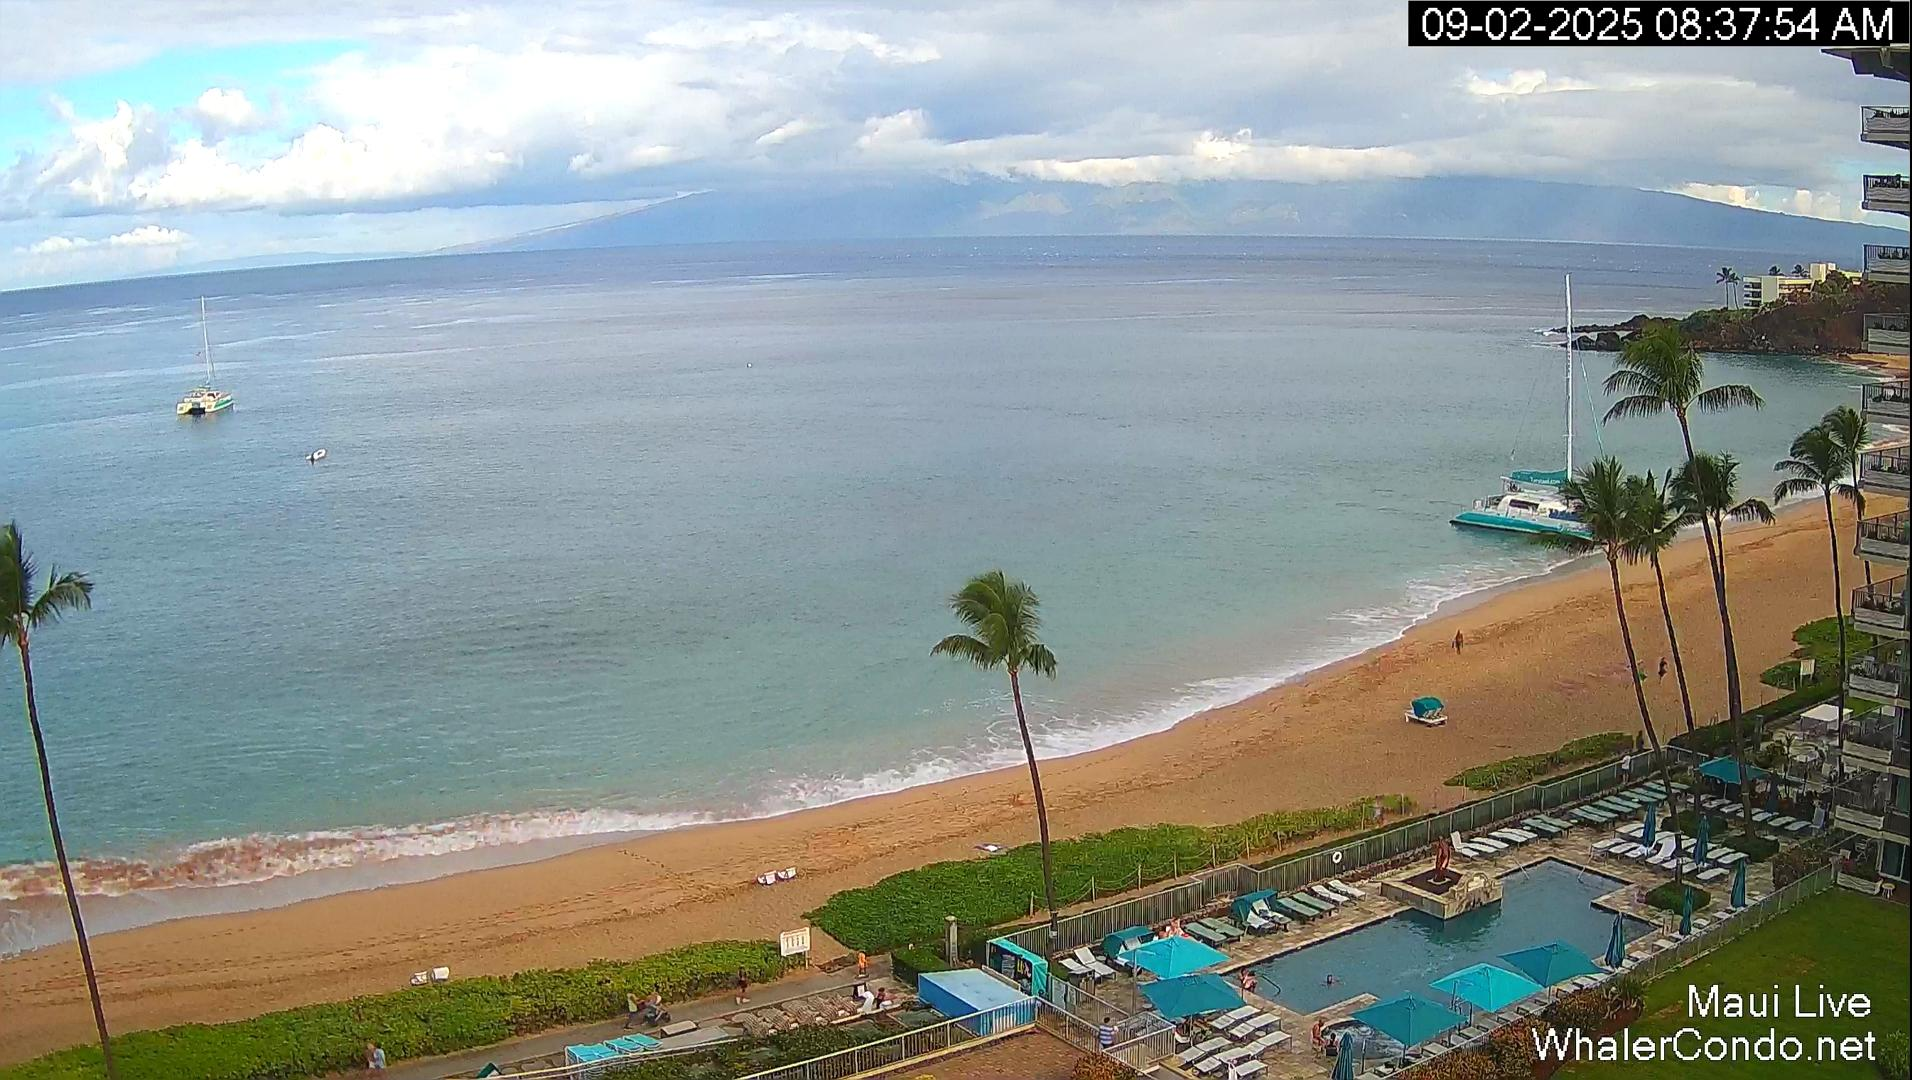boat: (1451, 274, 1627, 547), (176, 296, 235, 415), (303, 447, 327, 463)
person: (623, 990, 662, 1030), (364, 1038, 387, 1080), (1098, 1017, 1120, 1050), (623, 991, 640, 1030), (856, 984, 874, 1014), (736, 967, 750, 1004), (1311, 1019, 1328, 1048), (371, 1042, 388, 1070), (874, 987, 892, 1009), (1621, 750, 1632, 784), (1328, 1029, 1340, 1056), (1637, 658, 1648, 686), (1656, 655, 1667, 682), (1168, 918, 1182, 938), (1244, 970, 1256, 993), (1236, 964, 1250, 983), (1325, 972, 1342, 987), (858, 951, 868, 976), (1011, 790, 1023, 806), (1456, 630, 1464, 652), (1158, 926, 1168, 939)
